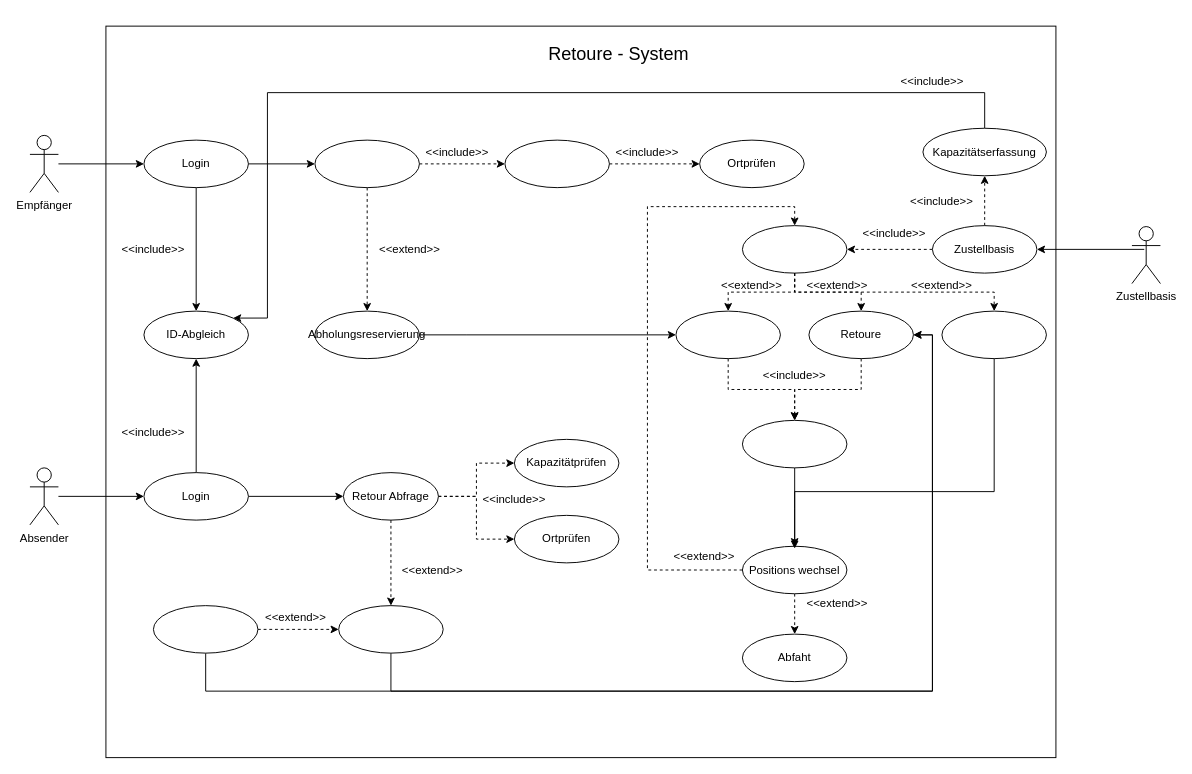
Image size: 1192x774. Some labels were removed from this diagram. Each missing label, with the centre of its shape:
"Abholanfrage" goes at (x=366, y=163).
"Abholung" goes at (x=727, y=334).
"Fahrzeugprüfung" goes at (x=556, y=163).
"Kapazitätsanderung" goes at (x=794, y=443).
"Retoure Reservieren" goes at (x=390, y=629).
"Retoure Stornieren" goes at (x=205, y=629).
"Verweilen" goes at (x=993, y=334).
"ZustellOrt" goes at (x=794, y=249).
